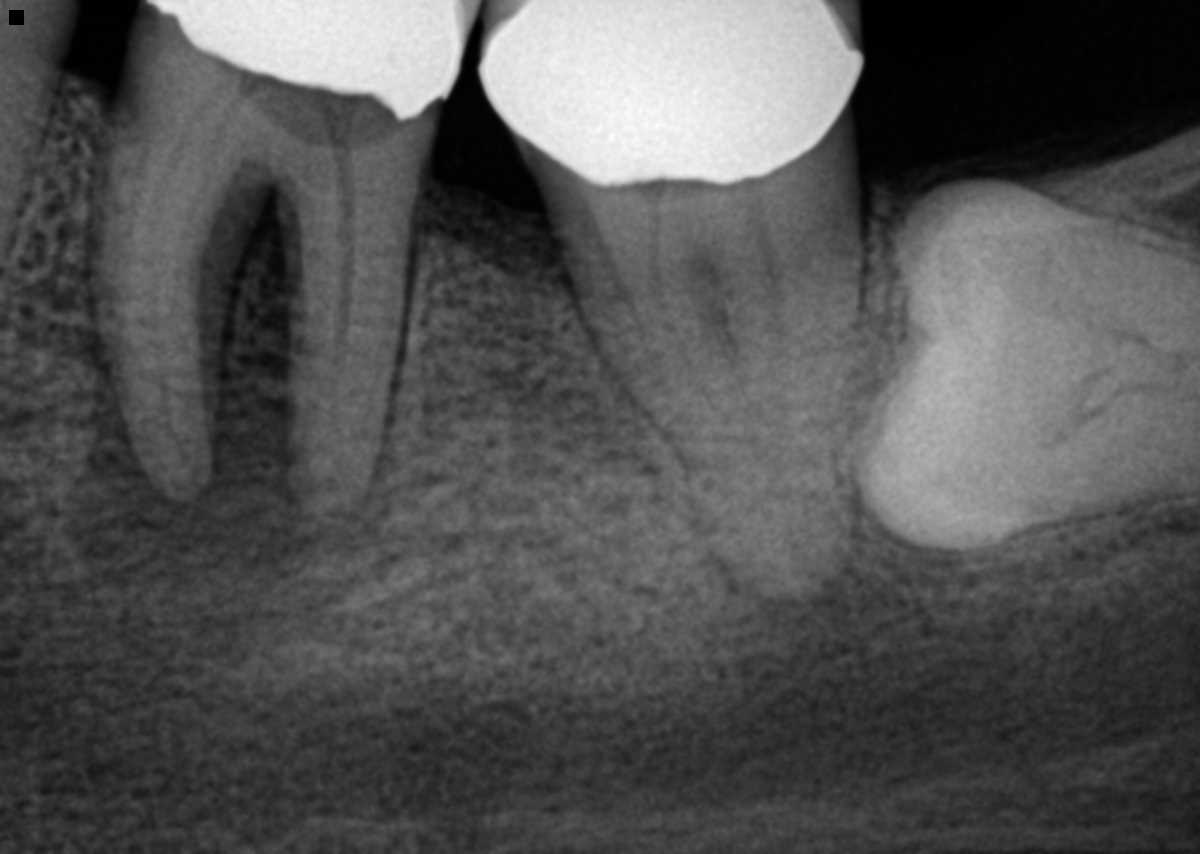Apical Lesion: (62, 194, 300, 586)
Distal Canal: (755, 247, 791, 464)
Distal Root: (285, 196, 416, 522), (323, 201, 352, 473)
Mesial Canal: (648, 251, 742, 431), (144, 162, 186, 469)
Mesial Root: (583, 201, 862, 605), (86, 120, 257, 504)
decay: (219, 63, 401, 150)
